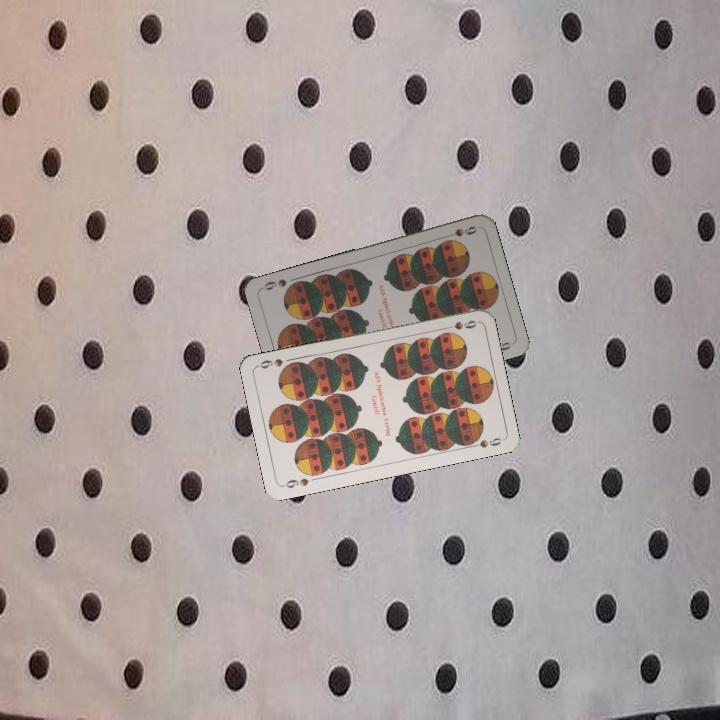S9: (440, 222, 480, 245), (439, 316, 479, 333), (279, 474, 312, 491)
